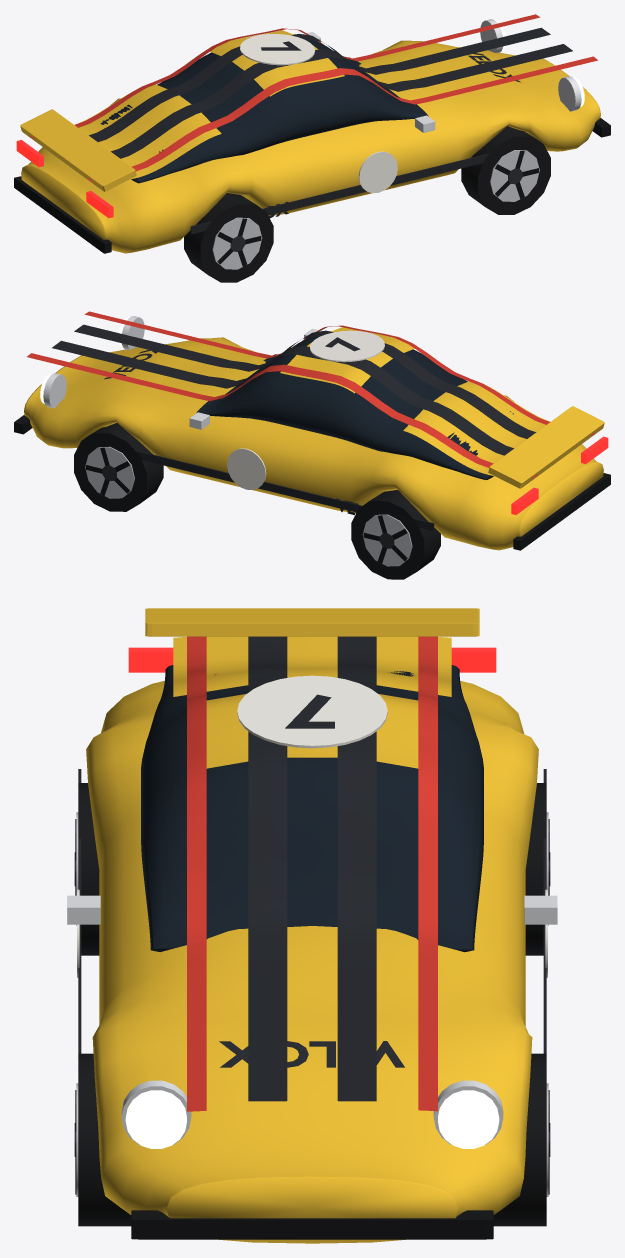
The model's file is car-4.glb.
The picture shows the model from 3 angles, top to bottom: view 1: azimuth 30°, elevation 25°; view 2: azimuth 150°, elevation 25°; view 3: azimuth 270°, elevation 25°; orthographic projection. The views are drawn at different scales.
Visible parts, largest first — view 1: car-4; view 2: car-4; view 3: car-4.
Part boxes in pixels (left/top/right/bottom): car-4: left=14, top=14, right=610, bottom=282; car-4: left=14, top=311, right=610, bottom=579; car-4: left=67, top=608, right=557, bottom=1243.
Bounding box in the file's own units: 3.44 × 1.09 × 1.44.
